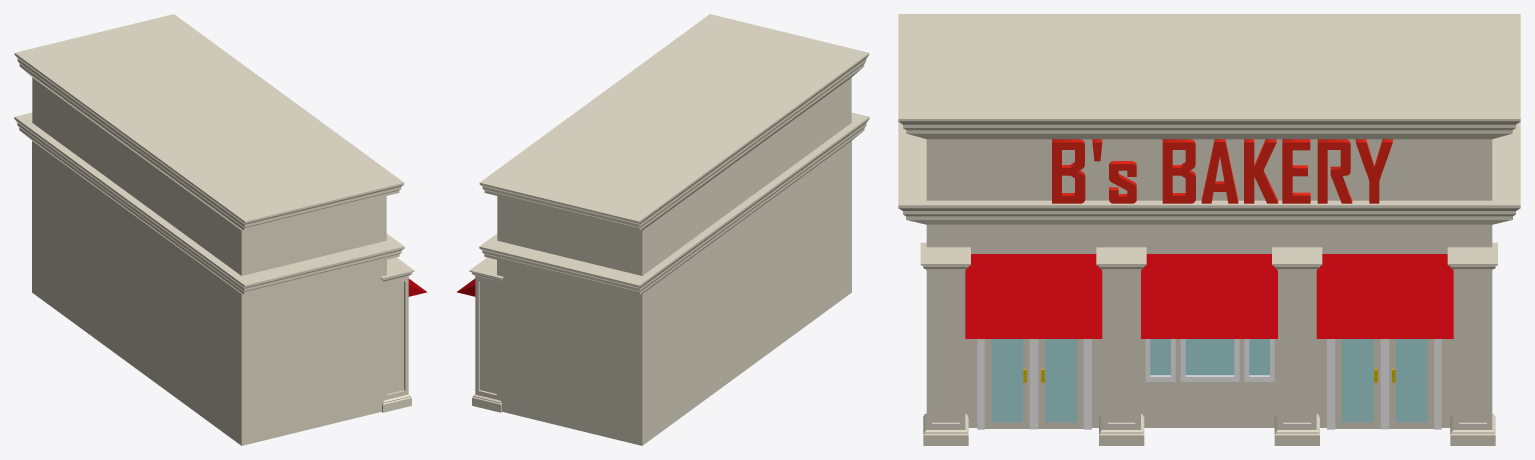
The model's file is bakery.fbx.
The picture shows the model from 3 angles, left to right: view 1: azimuth 30°, elevation 25°; view 2: azimuth 150°, elevation 25°; view 3: azimuth 270°, elevation 25°; orthographic projection. The views are drawn at different scales.
Parts seen in each view (by area): view 1: building; view 2: building; view 3: building.
Boxes of the visible parts, bbox=[...] form: building: bbox=[14, 14, 427, 445]; building: bbox=[456, 14, 869, 445]; building: bbox=[898, 14, 1520, 445].
Size of the model in its own units: 286 by 308 by 550.
